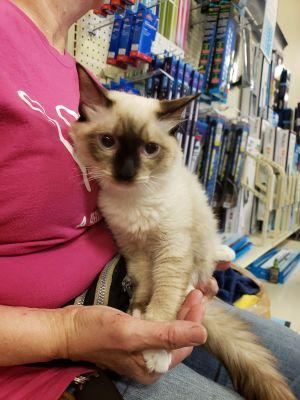siamese: (68, 57, 203, 197)
